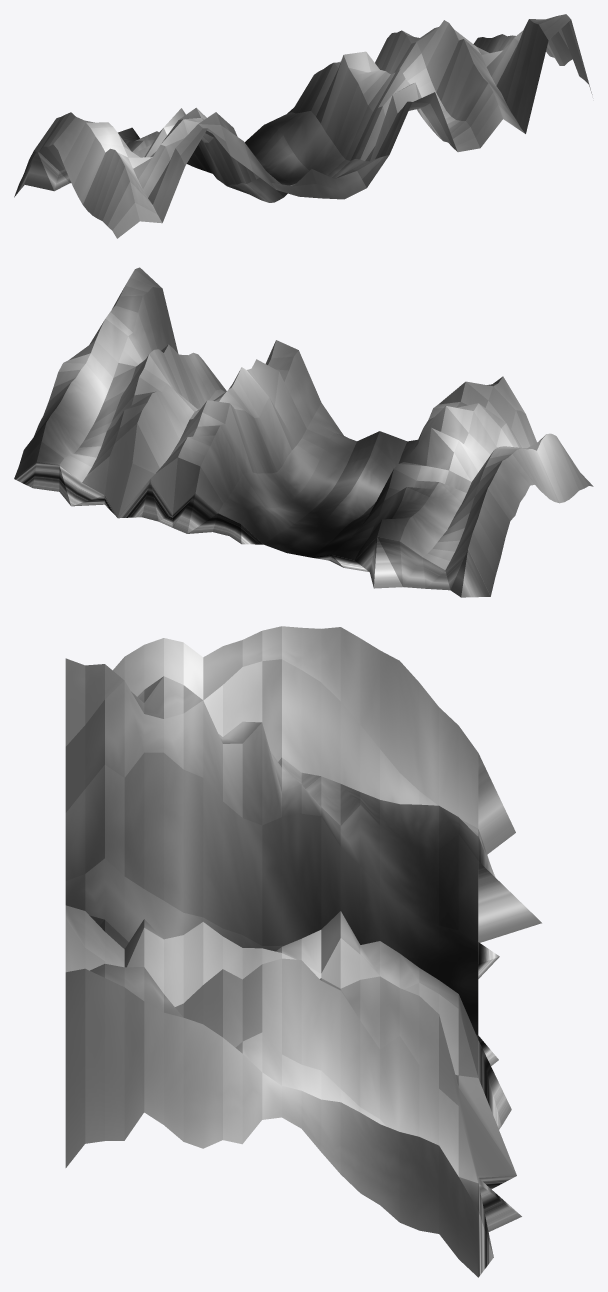
The model's file is terrain.fbx.
3 renders of one model, top to bottom at view 1: azimuth 30°, elevation 25°; view 2: azimuth 150°, elevation 25°; view 3: azimuth 270°, elevation 25°, orthographic. The views are drawn at different scales.
Visible parts, largest first — view 1: terrain_texture; view 2: terrain_texture; view 3: terrain_texture.
Boxes of the visible parts, <box> form: terrain_texture: <box>14,14,592,238</box>; terrain_texture: <box>14,267,593,597</box>; terrain_texture: <box>65,626,541,1277</box>.
Size of the model in its own units: 267 by 80.74 by 115.
